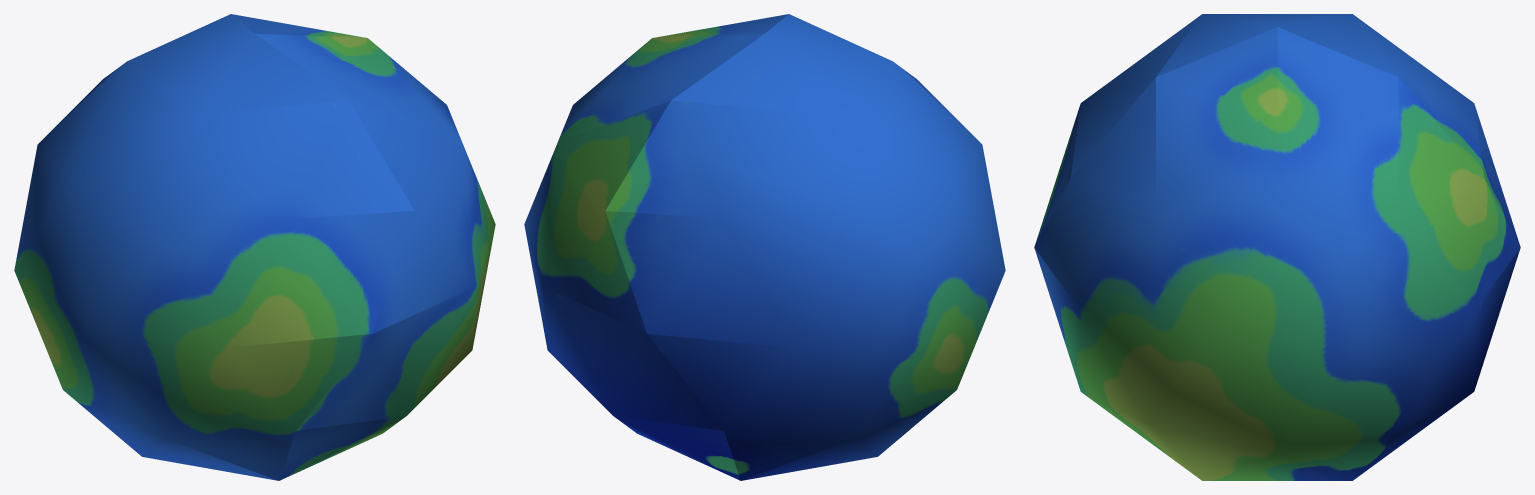
Rendered from earth.fbx.
3 renders of one model, left to right at view 1: azimuth 30°, elevation 25°; view 2: azimuth 150°, elevation 25°; view 3: azimuth 270°, elevation 25°, orthographic. The views are drawn at different scales.
Parts seen in each view (by area): view 1: Icosphere_frozen; view 2: Icosphere_frozen; view 3: Icosphere_frozen.
Part boxes in pixels (box(x1,y1,x2,y2)): Icosphere_frozen: box(14, 14, 495, 480); Icosphere_frozen: box(524, 14, 1005, 480); Icosphere_frozen: box(1034, 14, 1520, 480).
Bounding box in the file's own units: 200 × 200 × 200.
1 material, 1 textured.
